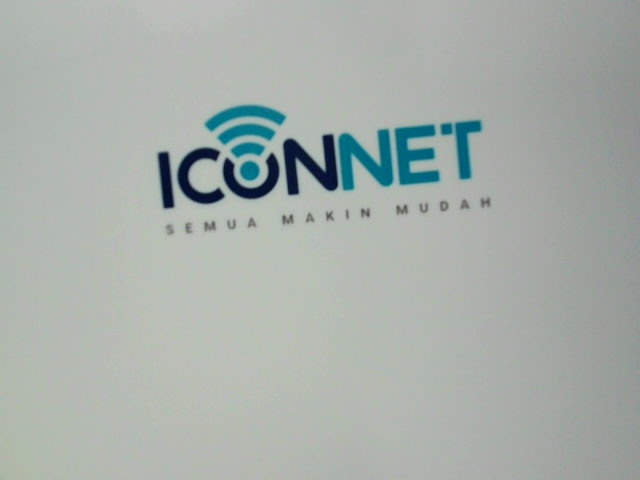BM_ICONNET: (128, 96, 523, 246)
